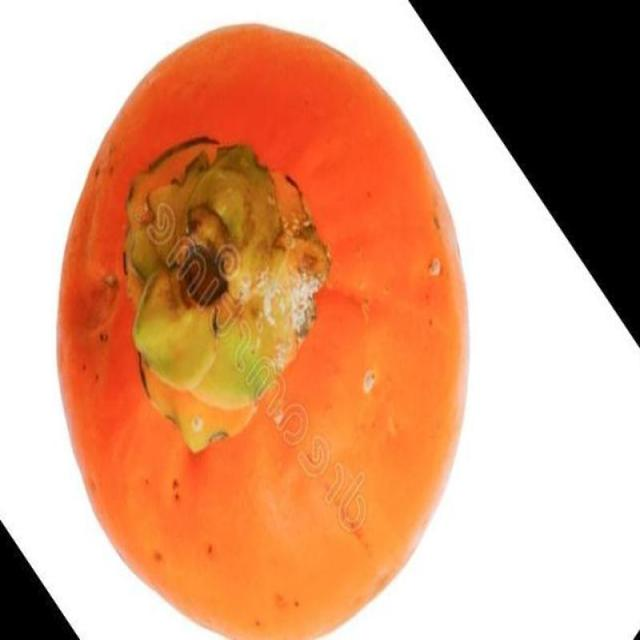good: (50, 23, 474, 639)
